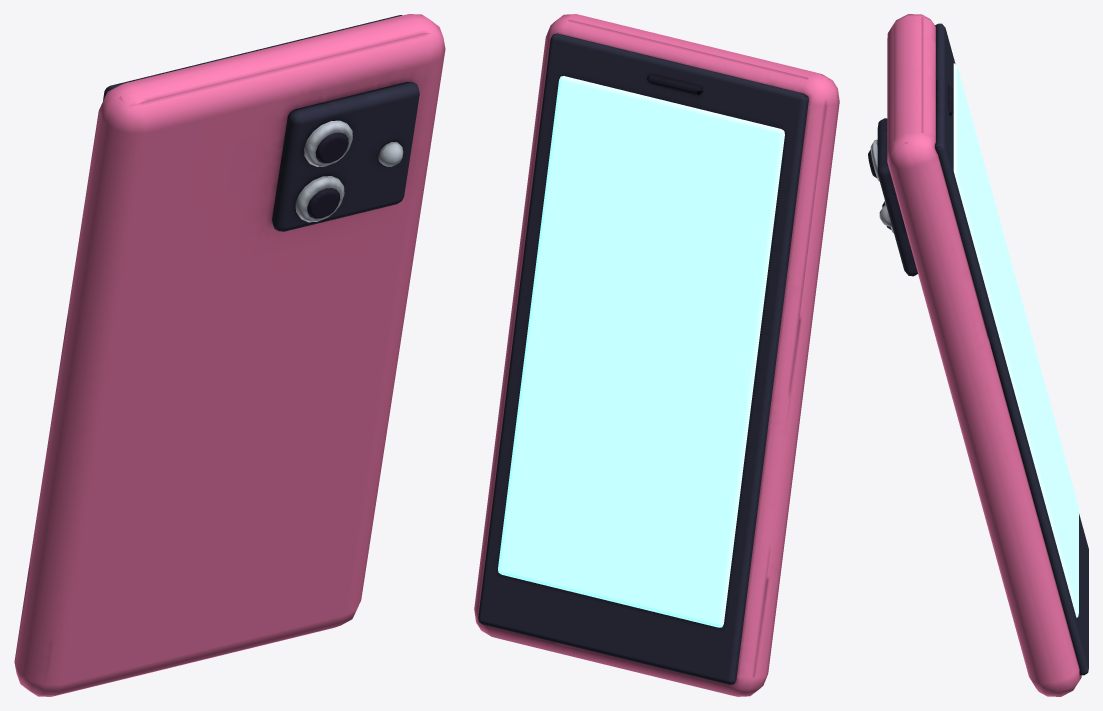
File: held_phone.glb
3 views of the same model, side by side, from view 1: azimuth 30°, elevation 25°; view 2: azimuth 150°, elevation 25°; view 3: azimuth 270°, elevation 25° (orthographic). The views are drawn at different scales.
Parts seen in each view (by area): view 1: held_phone; view 2: held_phone; view 3: held_phone.
Boxes of the visible parts, <box> form: held_phone: <box>14,14,445,696</box>; held_phone: <box>474,14,839,696</box>; held_phone: <box>868,14,1088,696</box>.
Bounding box in the file's own units: 0.078 × 0.1475 × 0.0526.
Materials: 5 (4 with a texture image).
